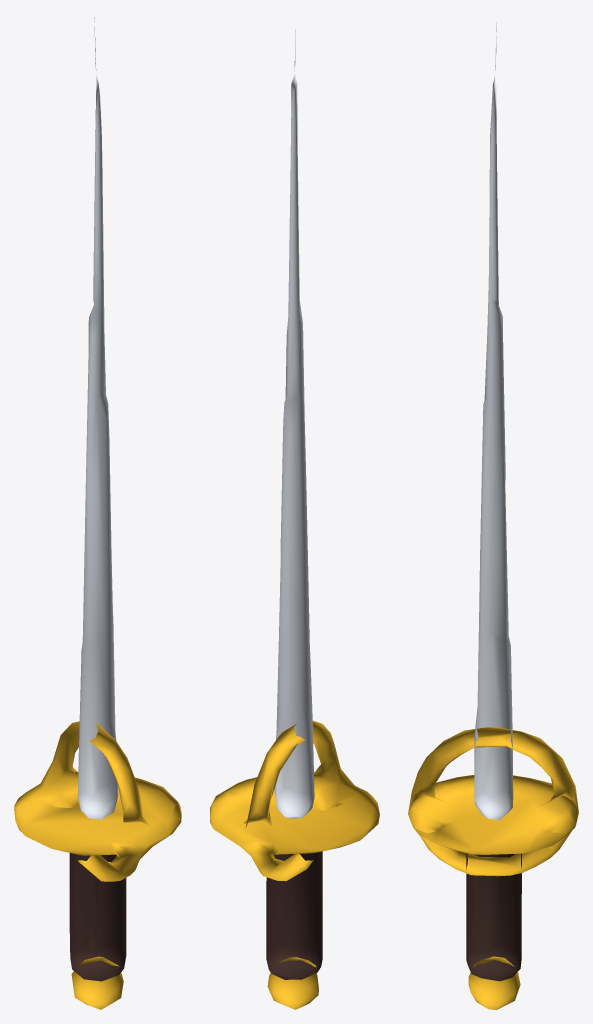
File: wpn_le_fante.glb
3 views of the same model, side by side, from view 1: azimuth 30°, elevation 25°; view 2: azimuth 150°, elevation 25°; view 3: azimuth 270°, elevation 25° (orthographic).
Visible parts, largest first — view 1: body; view 2: body; view 3: body.
Boxes of the visible parts, bbox=[...] form: body: bbox=[14, 17, 181, 1009]; body: bbox=[210, 29, 379, 1009]; body: bbox=[408, 22, 578, 1009].
Bounding box in the file's own units: 0.4641 × 3.01 × 0.4705.
1 material, 1 textured.
